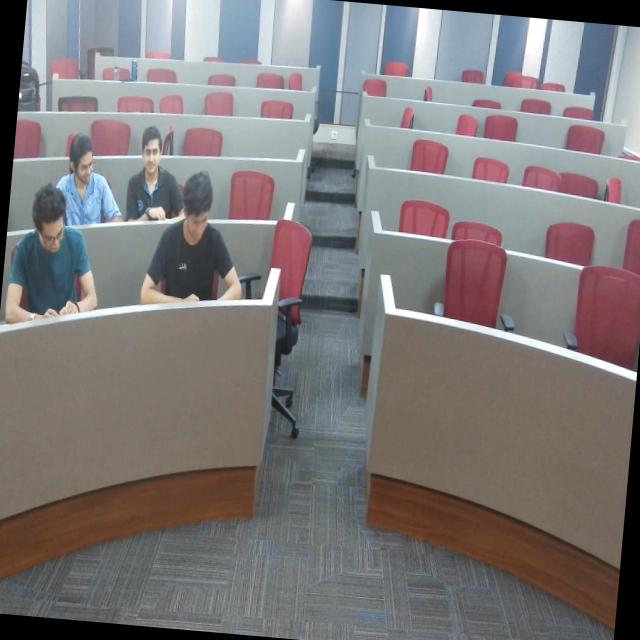cheating: (0, 186, 101, 346), (51, 130, 118, 238)
